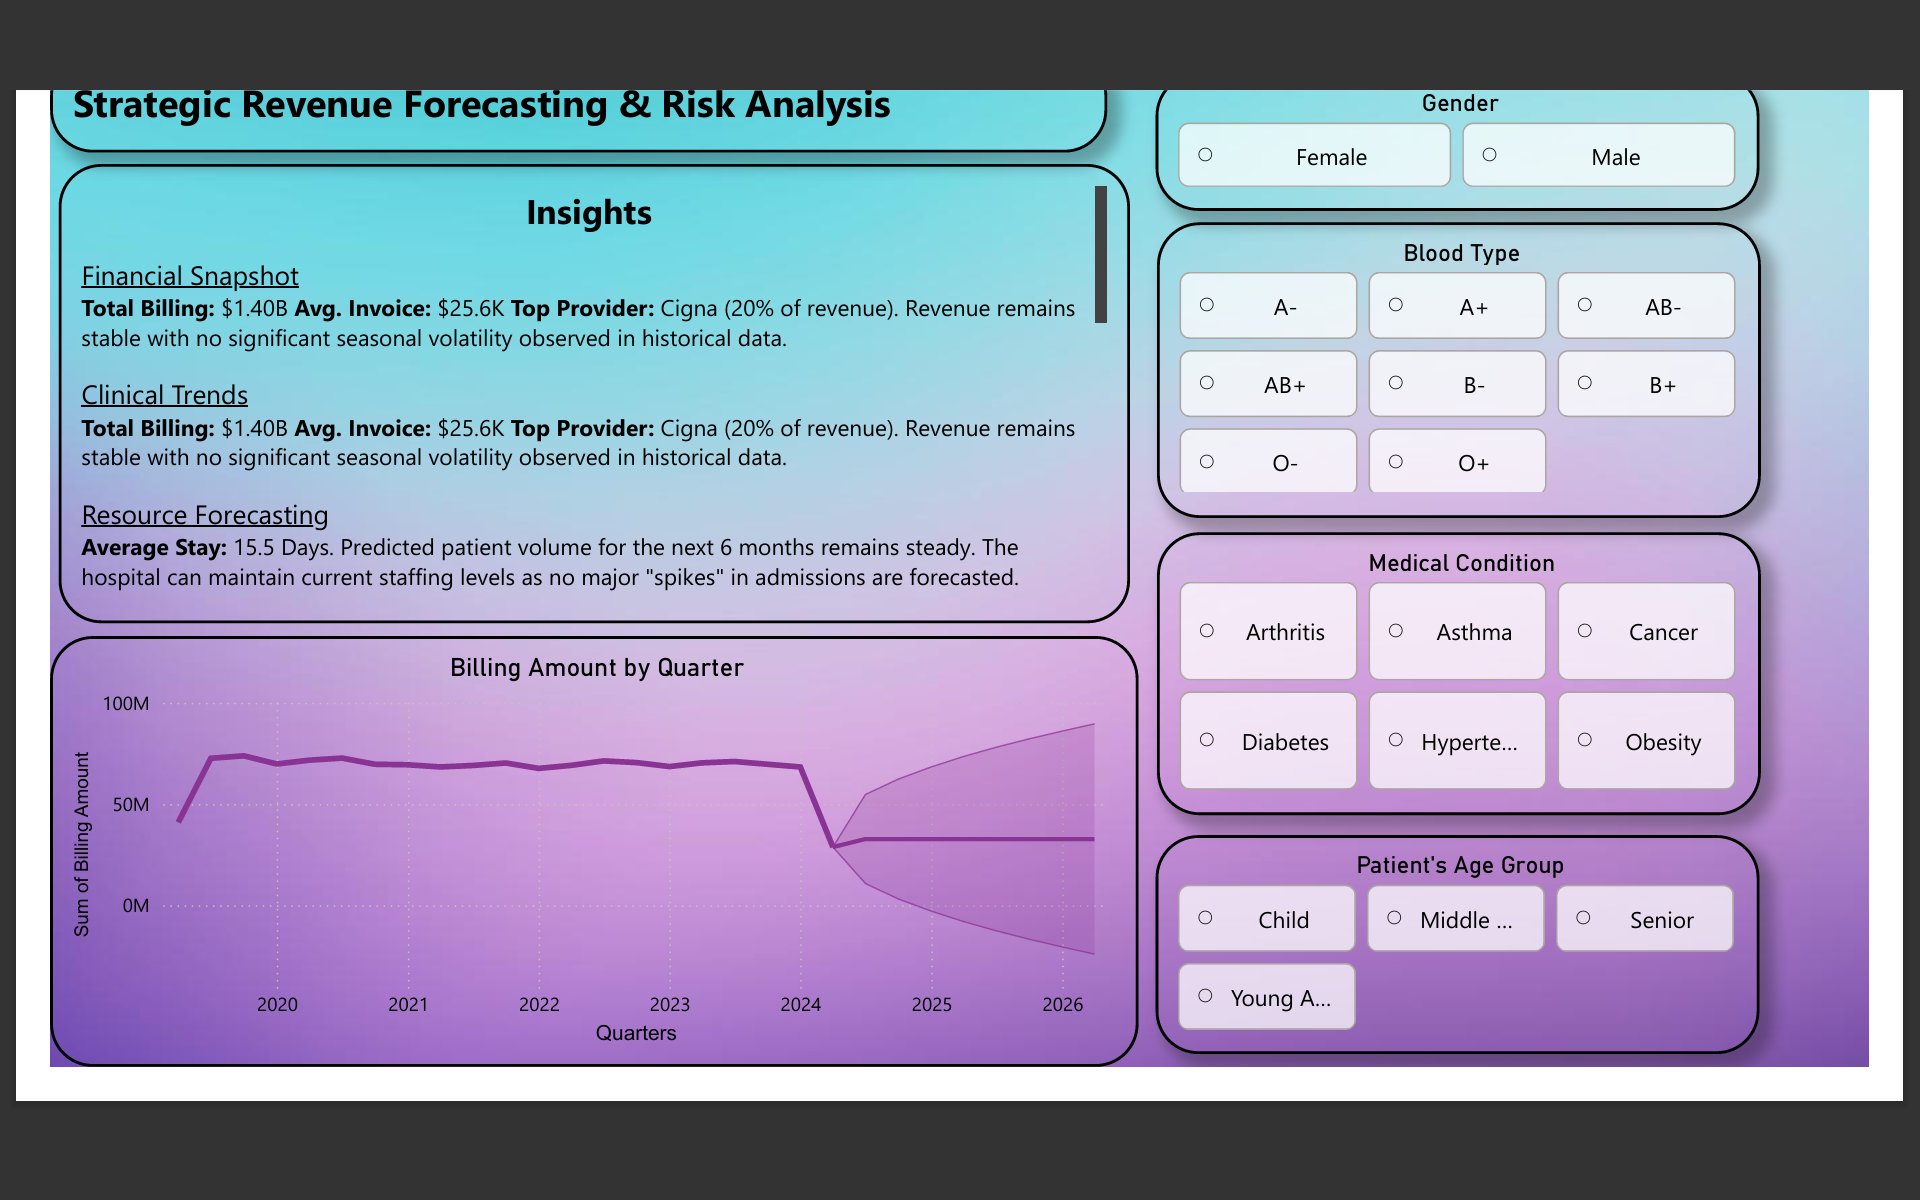

This screenshot's page, from the dashboard's own definition file:
{"tool":"powerbi","page":{"name":"Forecasting dashboard","canvas":[1280,720],"ordinal":1},"visuals":[{"type":"lineChart","title":" Billing Amount by Quarter","fields":{"Y":["Sum(healthcare_datasett.Billing Amount)"],"Category":["healthcare_datasett.Date of Admission.Variation.Date Hierarchy.Year","healthcare_datasett.Date of Admission.Variation.Date Hierarchy.Quarter"]},"box":[0,417.3,766.3,303.1],"z":0},{"type":"advancedSlicerVisual","fields":{"Values":["healthcare_datasett.Gender"]},"box":[777.8,21.1,425.6,96.7],"z":1000},{"type":"advancedSlicerVisual","fields":{"Values":["healthcare_datasett.Blood Type"]},"box":[778.9,125.6,425.6,208.9],"z":2000},{"type":"advancedSlicerVisual","fields":{"Values":["healthcare_datasett.Medical Condition"]},"box":[778.9,344.4,425.6,198.9],"z":3000},{"type":"advancedSlicerVisual","fields":{"Values":["healthcare_datasett.Patient's Age Group"]},"box":[777.8,556.7,425.6,154.4],"z":4000},{"type":"textbox","box":[6.1,84.7,754.1,323.5],"z":4001},{"type":"textbox","box":[0,7.1,743.9,69.4],"z":4002}]}

Visuals, with their boxes in screenshot pixels (x1, y1, x2, y2):
" Billing Amount by Quarter" lineChart: {"x1": 40, "y1": 630, "x2": 1133, "y2": 1063}
advancedSlicerVisual - healthcare_datasett.Gender: {"x1": 1150, "y1": 65, "x2": 1757, "y2": 203}
advancedSlicerVisual - healthcare_datasett.Blood Type: {"x1": 1151, "y1": 214, "x2": 1759, "y2": 512}
advancedSlicerVisual - healthcare_datasett.Medical Condition: {"x1": 1151, "y1": 526, "x2": 1759, "y2": 810}
advancedSlicerVisual - healthcare_datasett.Patient's Age Group: {"x1": 1150, "y1": 829, "x2": 1757, "y2": 1050}
textbox: {"x1": 49, "y1": 156, "x2": 1125, "y2": 617}
textbox: {"x1": 40, "y1": 45, "x2": 1101, "y2": 144}
